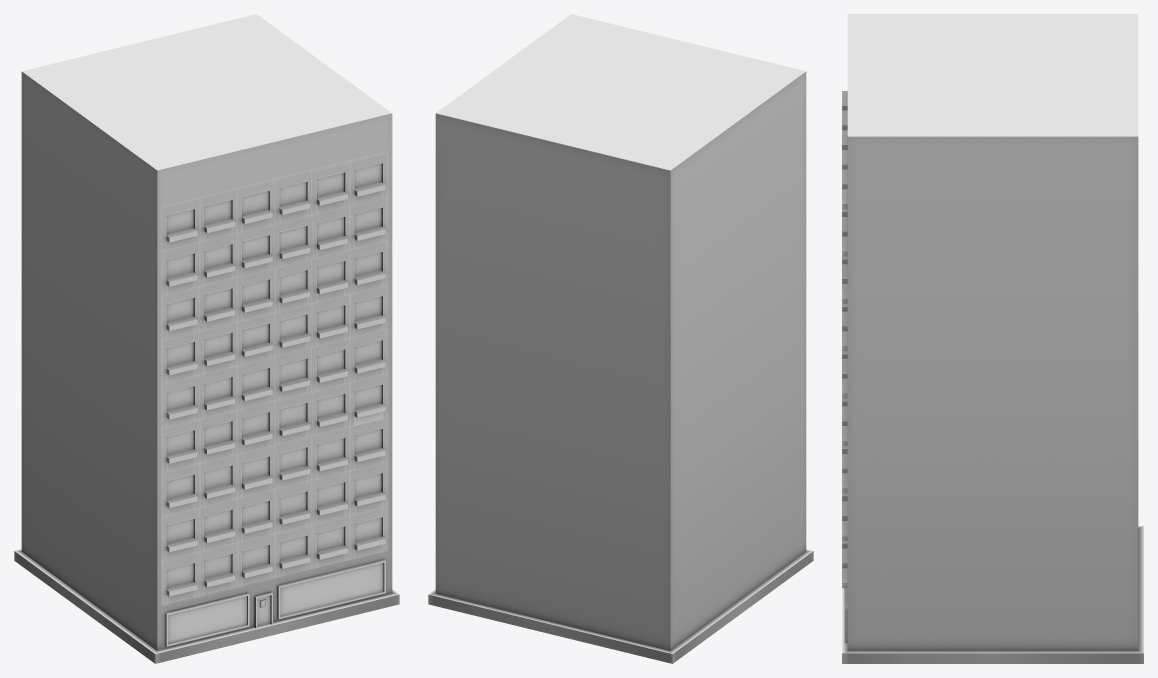
Rendered from building.glb.
3 views of the same model, side by side, from view 1: azimuth 30°, elevation 25°; view 2: azimuth 150°, elevation 25°; view 3: azimuth 270°, elevation 25° (orthographic). The views are drawn at different scales.
Visible parts, largest first — view 1: building; view 2: building; view 3: building.
Part boxes in pixels (box(x1,y1,x2,y2)): building: box(14, 14, 399, 663); building: box(428, 14, 813, 663); building: box(842, 14, 1143, 663).
Bounding box in the file's own units: 0.5202 × 0.9977 × 0.5202.
Materials: 1 (1 with a texture image).
